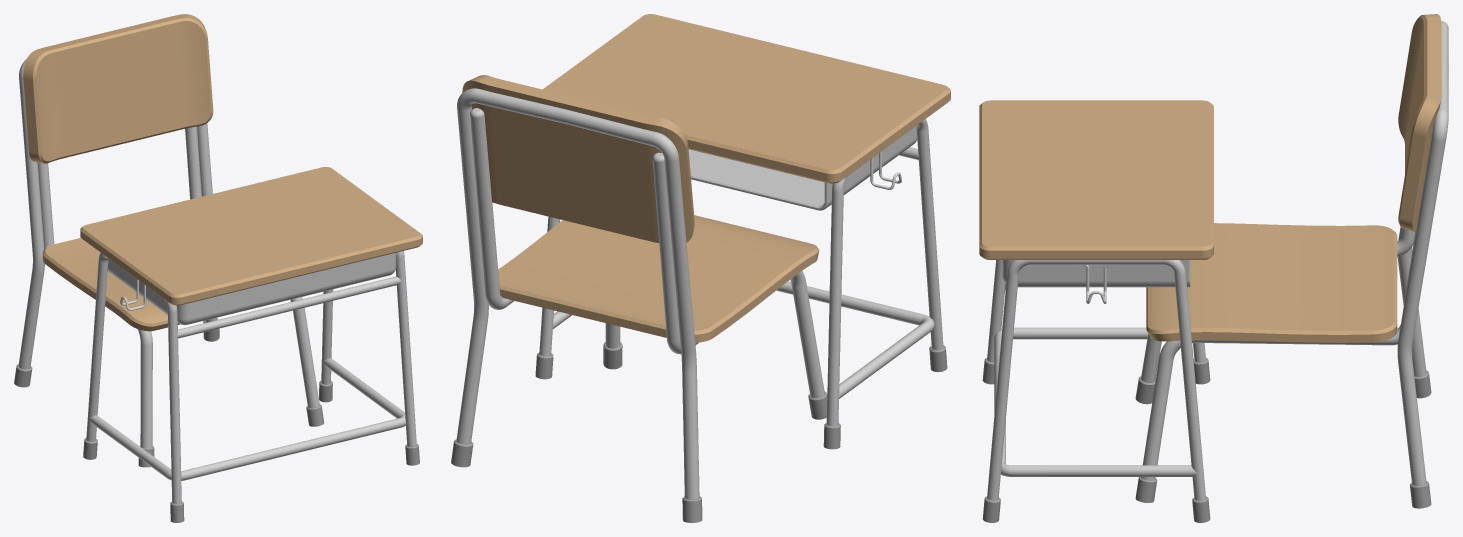
File: 713_school_desk_set_S.glb
The picture shows the model from 3 angles, left to right: view 1: azimuth 30°, elevation 25°; view 2: azimuth 150°, elevation 25°; view 3: azimuth 270°, elevation 25°; orthographic projection. The views are drawn at different scales.
Parts seen in each view (by area): view 1: chair, desk; view 2: desk, chair; view 3: chair, desk.
Boxes of the visible parts, x1,y1,x2,y2 form: chair: (80,167,422,522); desk: (14,14,324,467); desk: (451,75,827,522); chair: (535,14,950,449); chair: (979,100,1213,522); desk: (1135,14,1448,508).
Bounding box in the file's own units: 0.6093 × 0.7396 × 0.8003.
